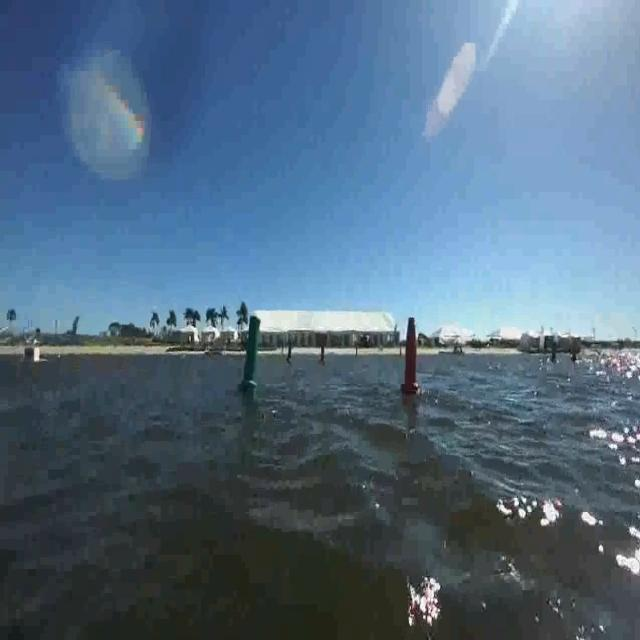green-column-buoy: (239, 314, 263, 392), (286, 342, 293, 363)
red-column-buoy: (402, 315, 420, 393), (320, 342, 326, 363)
